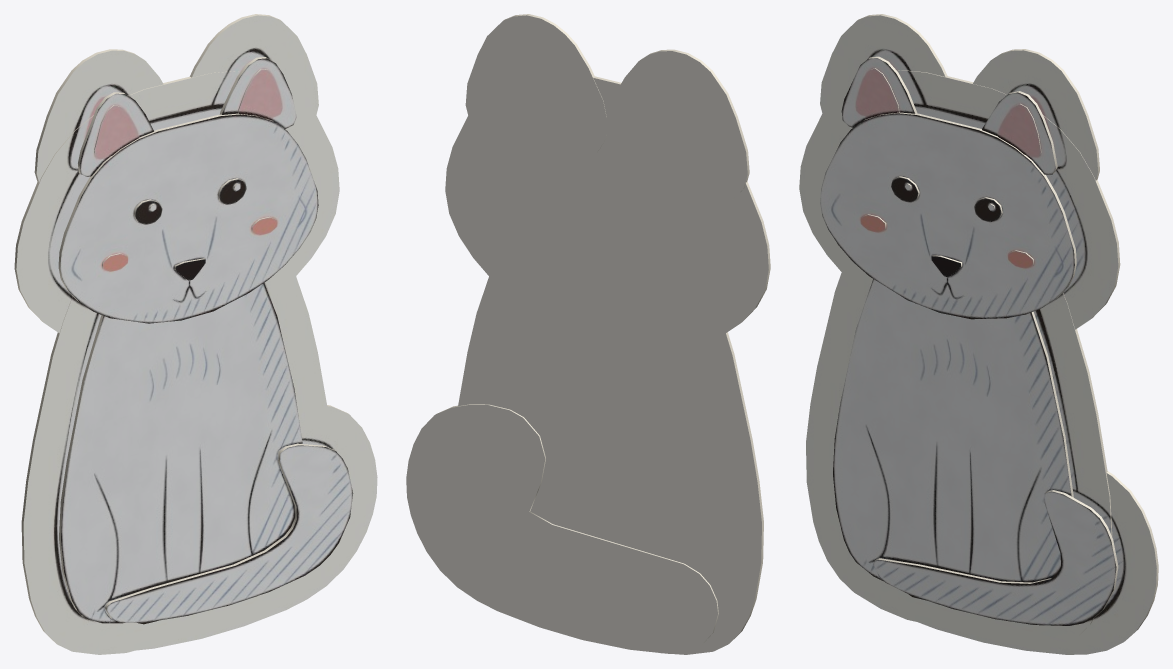
File: kit-C9EYf0ok.glb
The picture shows the model from 3 angles, left to right: view 1: azimuth 30°, elevation 25°; view 2: azimuth 150°, elevation 25°; view 3: azimuth 330°, elevation 25°; orthographic projection.
Visible parts, largest first — view 1: kit.001; view 2: kit.001; view 3: kit.001.
Boxes of the visible parts, x1,y1,x2,y2 form: kit.001: [14, 14, 377, 654]; kit.001: [406, 14, 770, 654]; kit.001: [799, 14, 1158, 654].
Bounding box in the file's own units: 0.3769 × 0.6077 × 0.0288.
Materials: 3 (1 with a texture image).
